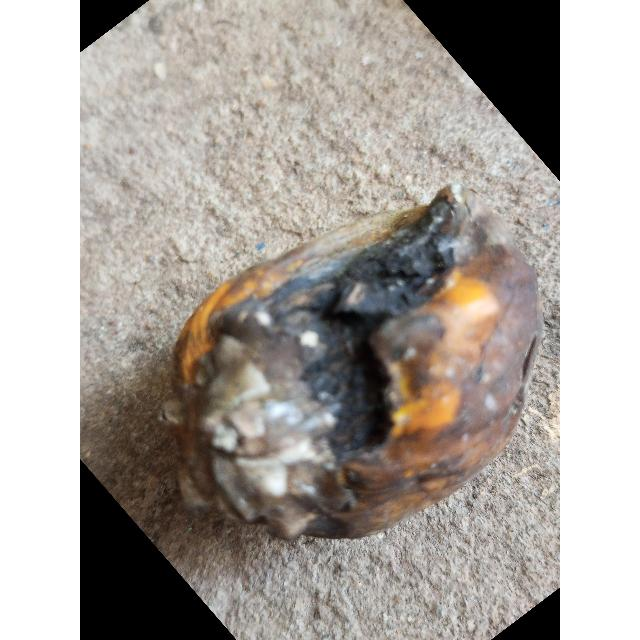damaged: (160, 184, 541, 547)
